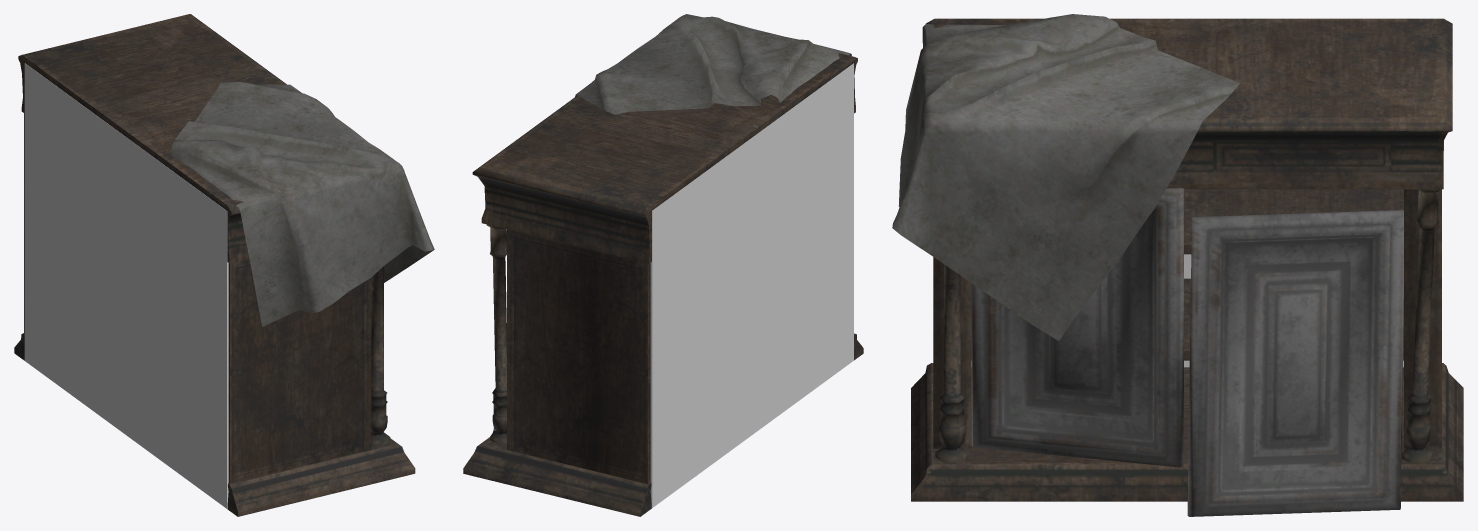
The model's file is Drawer.fbx.
3 views of the same model, side by side, from view 1: azimuth 30°, elevation 25°; view 2: azimuth 150°, elevation 25°; view 3: azimuth 270°, elevation 25° (orthographic). The views are drawn at different scales.
Visible parts, largest first — view 1: SM_Drawer_01_LOD0; view 2: SM_Drawer_01_LOD0; view 3: SM_Drawer_01_LOD0.
Boxes of the visible parts, left/top/right/bottom form: SM_Drawer_01_LOD0: left=14, top=14, right=434, bottom=516; SM_Drawer_01_LOD0: left=463, top=14, right=863, bottom=516; SM_Drawer_01_LOD0: left=892, top=14, right=1463, bottom=516.
Bounding box in the file's own units: 86.43 × 127 × 163.
